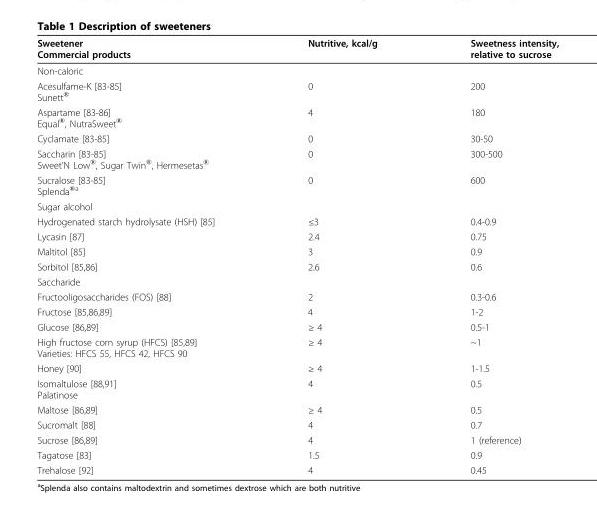table: (36, 36, 558, 475)
table column: (36, 36, 260, 475), (260, 36, 423, 475), (423, 36, 558, 475)
table column header: (36, 36, 558, 62)
table projected row header: (36, 62, 558, 78), (36, 198, 558, 213), (36, 273, 558, 288)
table row: (36, 145, 558, 172), (36, 36, 558, 62), (36, 78, 558, 104), (36, 104, 558, 130), (36, 172, 558, 198), (36, 334, 558, 360), (36, 375, 558, 401), (36, 62, 558, 78), (36, 303, 558, 319), (36, 416, 558, 432), (36, 130, 558, 145), (36, 198, 558, 213), (36, 213, 558, 228), (36, 228, 558, 243), (36, 243, 558, 258), (36, 258, 558, 273), (36, 273, 558, 288), (36, 288, 558, 303), (36, 319, 558, 334), (36, 360, 558, 375), (36, 401, 558, 416), (36, 432, 558, 447), (36, 447, 558, 462), (36, 462, 558, 475)
